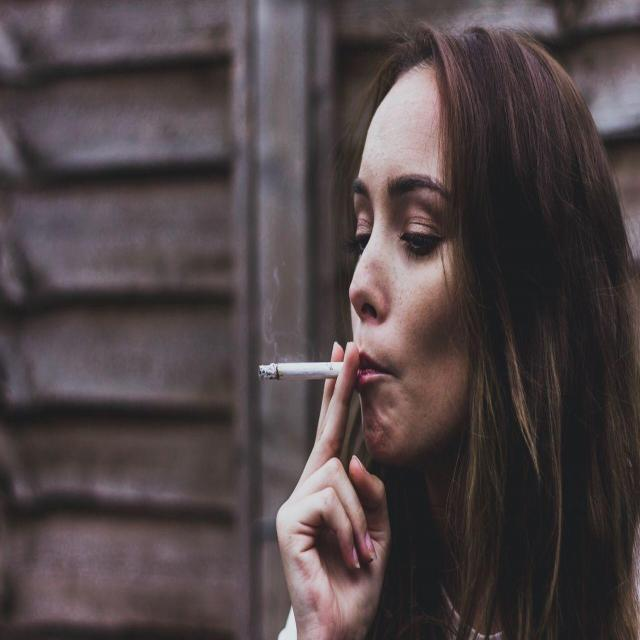Сигарета: (258, 358, 360, 380)
Тело: (277, 25, 638, 640)
